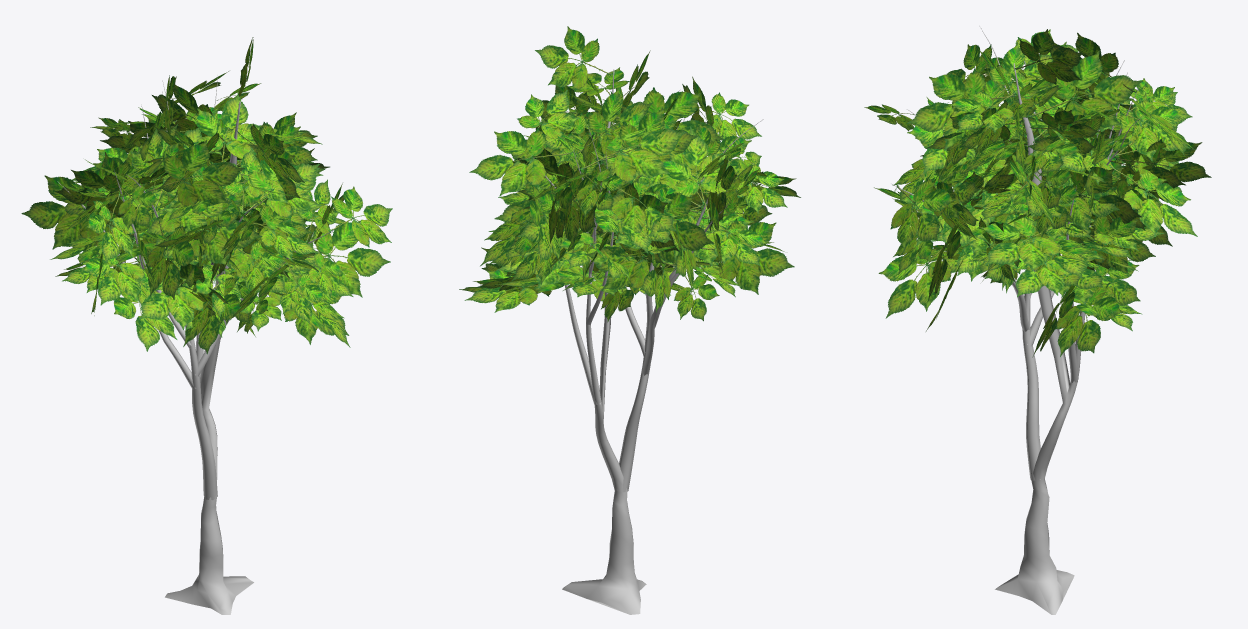
File: Tree_01.fbx
The picture shows the model from 3 angles, left to right: view 1: azimuth 30°, elevation 25°; view 2: azimuth 150°, elevation 25°; view 3: azimuth 270°, elevation 25°; orthographic projection. The views are drawn at different scales.
Visible parts, largest first — view 1: Tree.003, Tree.003|LeafGreen|Dupli|129, Tree.003|LeafGreen|Dupli|41, Tree.003|LeafGreen|Dupli|69, Tree.003|LeafGreen|Dupli|149, Tree.003|LeafGreen|Dupli|45, Tree.003|LeafGreen|Dupli|125, Tree.003|LeafGreen|Dupli|85, Tree.003|LeafGreen|Dupli|58, Tree.003|LeafGreen|Dupli|106, Tree.003|LeafGreen|Dupli|87, Tree.003|LeafGreen|Dupli|74 (+29 smaller); view 2: Tree.003, Tree.003|LeafGreen|Dupli|121, Tree.003|LeafGreen|Dupli|119, Tree.003|LeafGreen|Dupli|20, Tree.003|LeafGreen|Dupli|162, Tree.003|LeafGreen|Dupli|22, Tree.003|LeafGreen|Dupli|138, Tree.003|LeafGreen|Dupli|120, Tree.003|LeafGreen|Dupli|161, Tree.003|LeafGreen|Dupli|80, Tree.003|LeafGreen|Dupli|17, Tree.003|LeafGreen|Dupli|188 (+31 smaller); view 3: Tree.003, Tree.003|LeafGreen|Dupli|219, Tree.003|LeafGreen|Dupli|249, Tree.003|LeafGreen|Dupli|157, Tree.003|LeafGreen|Dupli|15, Tree.003|LeafGreen|Dupli|45, Tree.003|LeafGreen|Dupli|35, Tree.003|LeafGreen|Dupli|3, Tree.003|LeafGreen|Dupli|162, Tree.003|LeafGreen|Dupli|139, Tree.003|LeafGreen|Dupli|12, Tree.003|LeafGreen|Dupli|159 (+40 smaller).
Part boxes in pixels (x1=…): Tree.003: x1=57, y1=75, x2=333, y2=614; Tree.003|LeafGreen|Dupli|129: x1=144, y1=140, x2=244, y2=209; Tree.003|LeafGreen|Dupli|41: x1=286, y1=220, x2=390, y2=297; Tree.003|LeafGreen|Dupli|69: x1=21, y1=175, x2=124, y2=249; Tree.003|LeafGreen|Dupli|149: x1=194, y1=92, x2=260, y2=161; Tree.003|LeafGreen|Dupli|45: x1=328, y1=186, x2=392, y2=247; Tree.003|LeafGreen|Dupli|125: x1=145, y1=219, x2=196, y2=299; Tree.003|LeafGreen|Dupli|85: x1=131, y1=268, x2=203, y2=329; Tree.003|LeafGreen|Dupli|58: x1=82, y1=238, x2=146, y2=305; Tree.003|LeafGreen|Dupli|106: x1=242, y1=160, x2=319, y2=218; Tree.003|LeafGreen|Dupli|87: x1=183, y1=277, x2=241, y2=354; Tree.003|LeafGreen|Dupli|74: x1=87, y1=191, x2=135, y2=262; Tree.003: x1=511, y1=69, x2=763, y2=614; Tree.003|LeafGreen|Dupli|121: x1=469, y1=127, x2=574, y2=196; Tree.003|LeafGreen|Dupli|119: x1=579, y1=109, x2=685, y2=184; Tree.003|LeafGreen|Dupli|20: x1=698, y1=218, x2=794, y2=294; Tree.003|LeafGreen|Dupli|162: x1=535, y1=26, x2=614, y2=91; Tree.003|LeafGreen|Dupli|22: x1=663, y1=126, x2=728, y2=222; Tree.003|LeafGreen|Dupli|138: x1=602, y1=178, x2=681, y2=233; Tree.003|LeafGreen|Dupli|120: x1=574, y1=87, x2=653, y2=157; Tree.003|LeafGreen|Dupli|161: x1=517, y1=89, x2=579, y2=139; Tree.003|LeafGreen|Dupli|80: x1=644, y1=187, x2=714, y2=263; Tree.003|LeafGreen|Dupli|17: x1=586, y1=232, x2=676, y2=291; Tree.003|LeafGreen|Dupli|188: x1=615, y1=87, x2=724, y2=142; Tree.003: x1=891, y1=26, x2=1145, y2=614; Tree.003|LeafGreen|Dupli|219: x1=1027, y1=50, x2=1142, y2=129; Tree.003|LeafGreen|Dupli|249: x1=907, y1=68, x2=1017, y2=150; Tree.003|LeafGreen|Dupli|157: x1=1108, y1=163, x2=1197, y2=236; Tree.003|LeafGreen|Dupli|15: x1=979, y1=213, x2=1067, y2=271; Tree.003|LeafGreen|Dupli|45: x1=890, y1=177, x2=955, y2=251; Tree.003|LeafGreen|Dupli|35: x1=878, y1=240, x2=951, y2=318; Tree.003|LeafGreen|Dupli|3: x1=1055, y1=283, x2=1123, y2=356; Tree.003|LeafGreen|Dupli|162: x1=1013, y1=29, x2=1082, y2=84; Tree.003|LeafGreen|Dupli|139: x1=1113, y1=98, x2=1190, y2=161; Tree.003|LeafGreen|Dupli|12: x1=1090, y1=216, x2=1155, y2=272; Tree.003|LeafGreen|Dupli|159: x1=1114, y1=138, x2=1211, y2=186.
Bounding box in the file's own units: 116 × 198 × 115.
